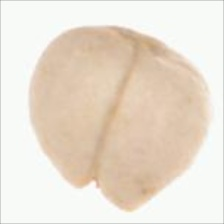L3: (66, 173, 133, 211)
L4: (27, 24, 212, 210)
